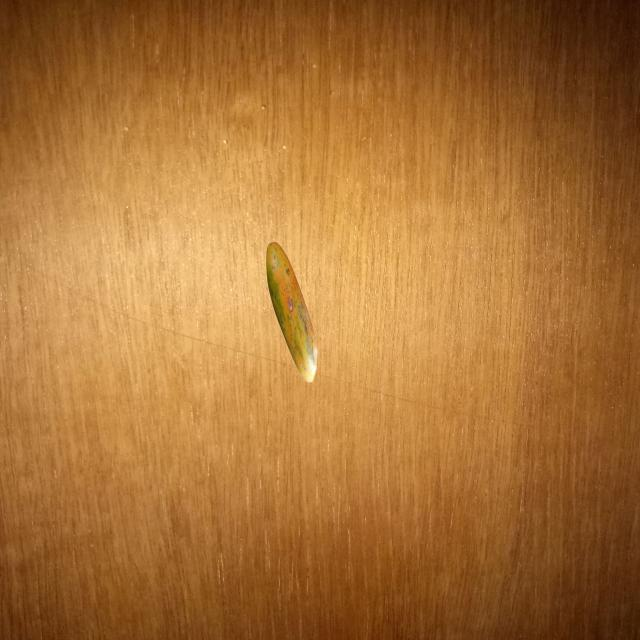Pepaya rippen: (262, 238, 326, 385)
